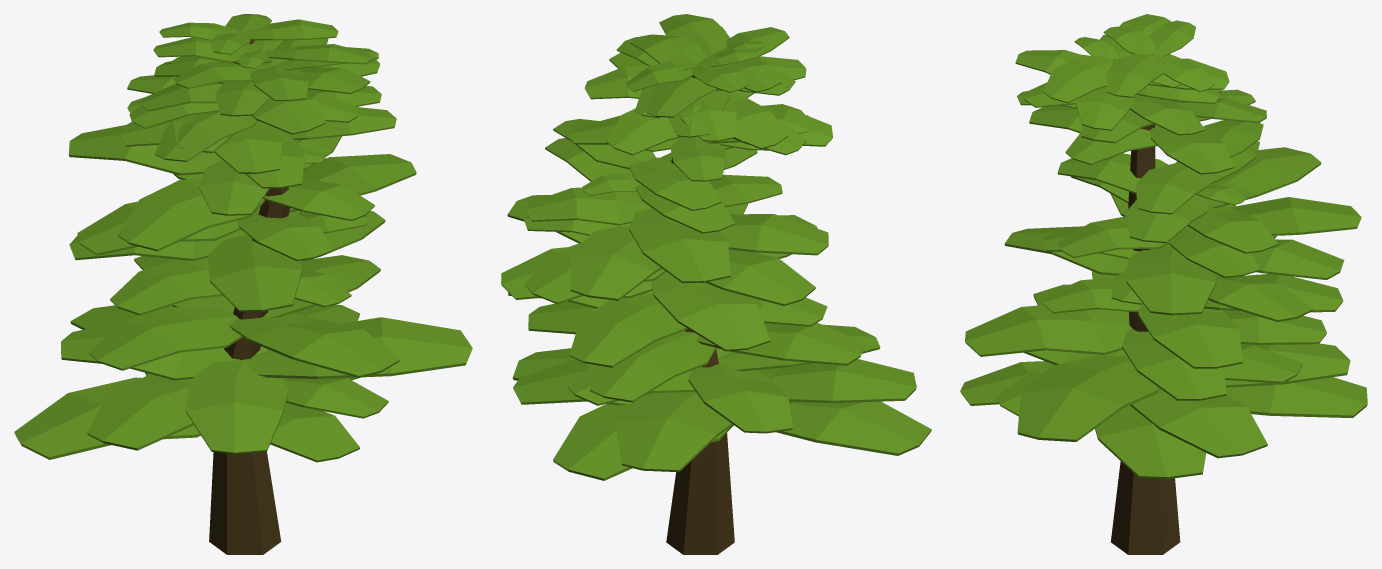
File: Deciduous Tree thick.fbx
3 renders of one model, left to right at view 1: azimuth 30°, elevation 25°; view 2: azimuth 150°, elevation 25°; view 3: azimuth 270°, elevation 25°, orthographic. The views are drawn at different scales.
Parts seen in each view (by area): view 1: Cylinder, Plane.005, Plane.012, Plane.009, Plane.008, Plane.073, Plane.020, Plane.025, Plane.001, Plane.013, Plane.004, Plane.029 (+39 smaller); view 2: Plane.074, Cylinder, Plane.001, Plane.017, Plane.014, Plane.073, Plane.006, Plane.029, Plane.026, Plane.010, Plane.002, Plane.009 (+38 smaller); view 3: Plane.008, Plane.012, Cylinder, Plane.075, Plane.003, Plane.023, Plane.015, Plane.002, Plane.011, Plane.026, Plane.029, Plane.018 (+39 smaller).
Part boxes in pixels (x1,y1,x2,y2): Cylinder: (209,40,289,554); Plane.005: (186,360,288,454); Plane.012: (229,313,399,377); Plane.009: (89,307,242,370); Plane.008: (243,317,472,378); Plane.073: (87,374,193,450); Plane.020: (207,235,302,311); Plane.025: (117,178,265,251); Plane.001: (14,377,200,459); Plane.013: (110,259,223,315); Plane.004: (270,403,359,462); Plane.029: (68,123,222,175); Plane.074: (616,392,733,472); Cylinder: (666,75,734,554); Plane.001: (776,401,931,455); Plane.017: (651,271,770,351); Plane.014: (569,293,687,367); Plane.073: (756,359,916,403); Plane.006: (688,363,792,433); Plane.029: (629,208,730,282); Plane.026: (570,226,662,300); Plane.010: (589,330,716,402); Plane.002: (553,404,733,480); Plane.009: (696,322,865,365); Plane.008: (1017,355,1158,441); Plane.012: (965,305,1132,356); Cylinder: (1111,124,1180,554); Plane.075: (1130,387,1267,458); Plane.003: (1095,405,1205,479); Plane.023: (1126,246,1217,315); Plane.015: (1138,304,1242,368); Plane.002: (1226,377,1367,417); Plane.011: (1122,329,1226,400); Plane.026: (1186,197,1361,235); Plane.029: (1207,147,1321,207); Plane.018: (1208,275,1312,321).
Size of the model in its own units: 1149 by 1388 by 1033.
